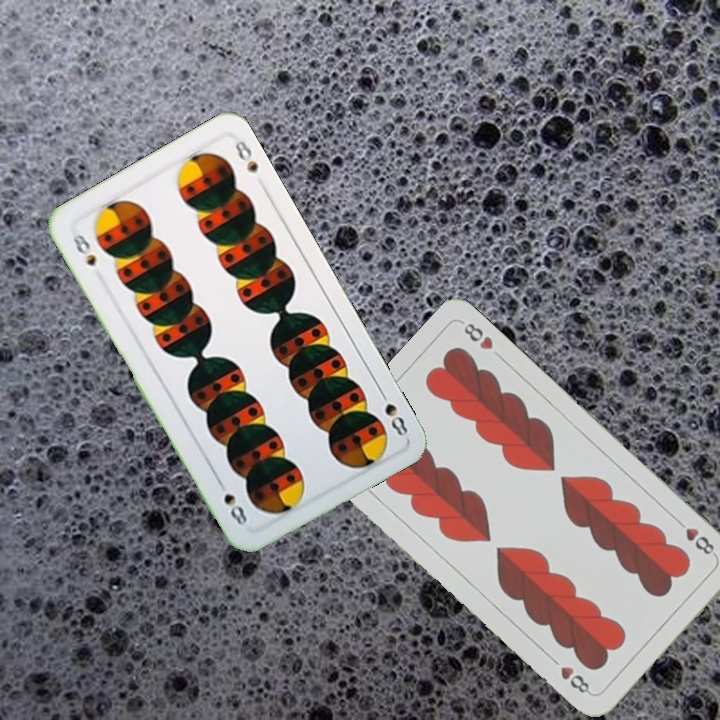H8: (671, 515, 719, 559)
S8: (374, 384, 411, 439), (66, 230, 99, 269)
